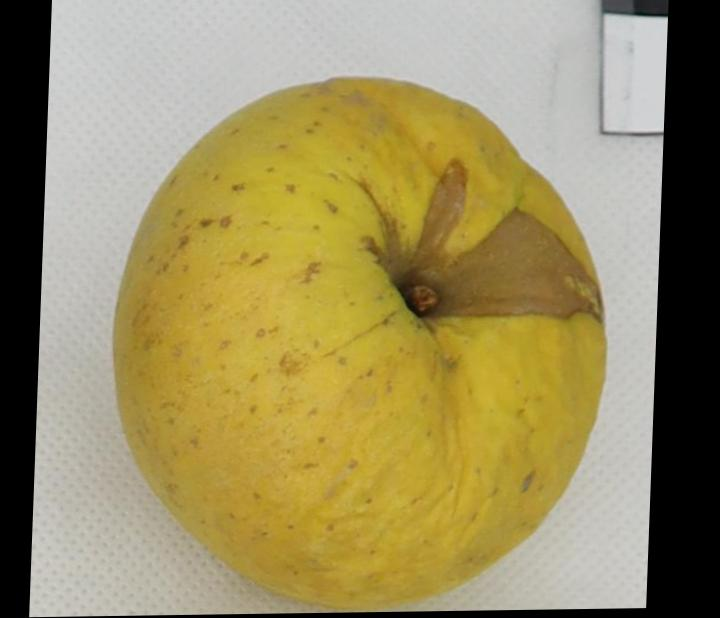apple: (114, 78, 604, 609)
bruise_discoloration: (371, 160, 601, 321)
